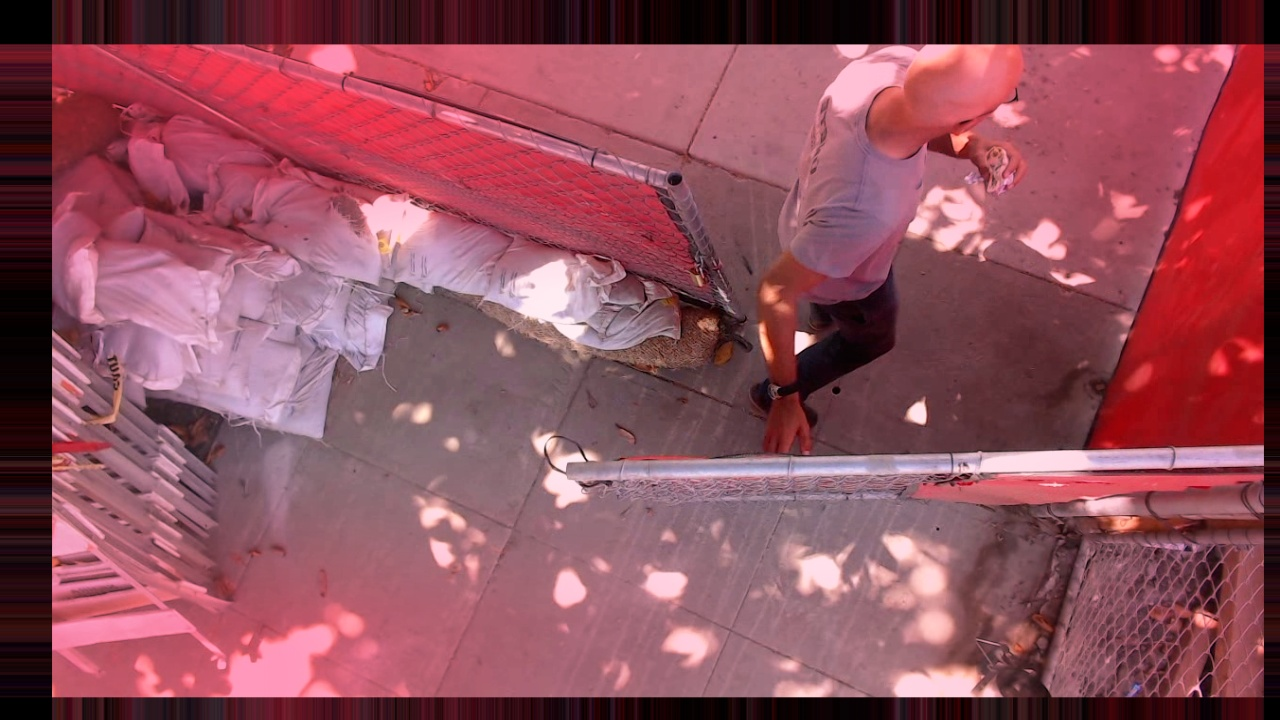hardhat: (235, 522, 388, 673)
person: (300, 401, 659, 690)
safetyvest: (322, 436, 530, 685)
